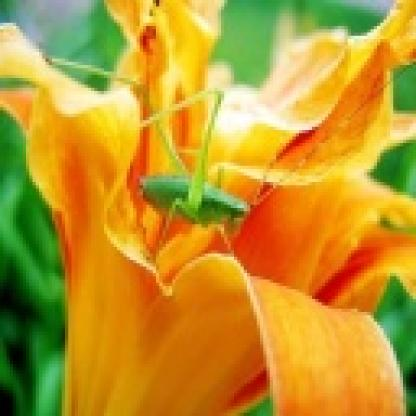grasshopper: (135, 93, 261, 256)
